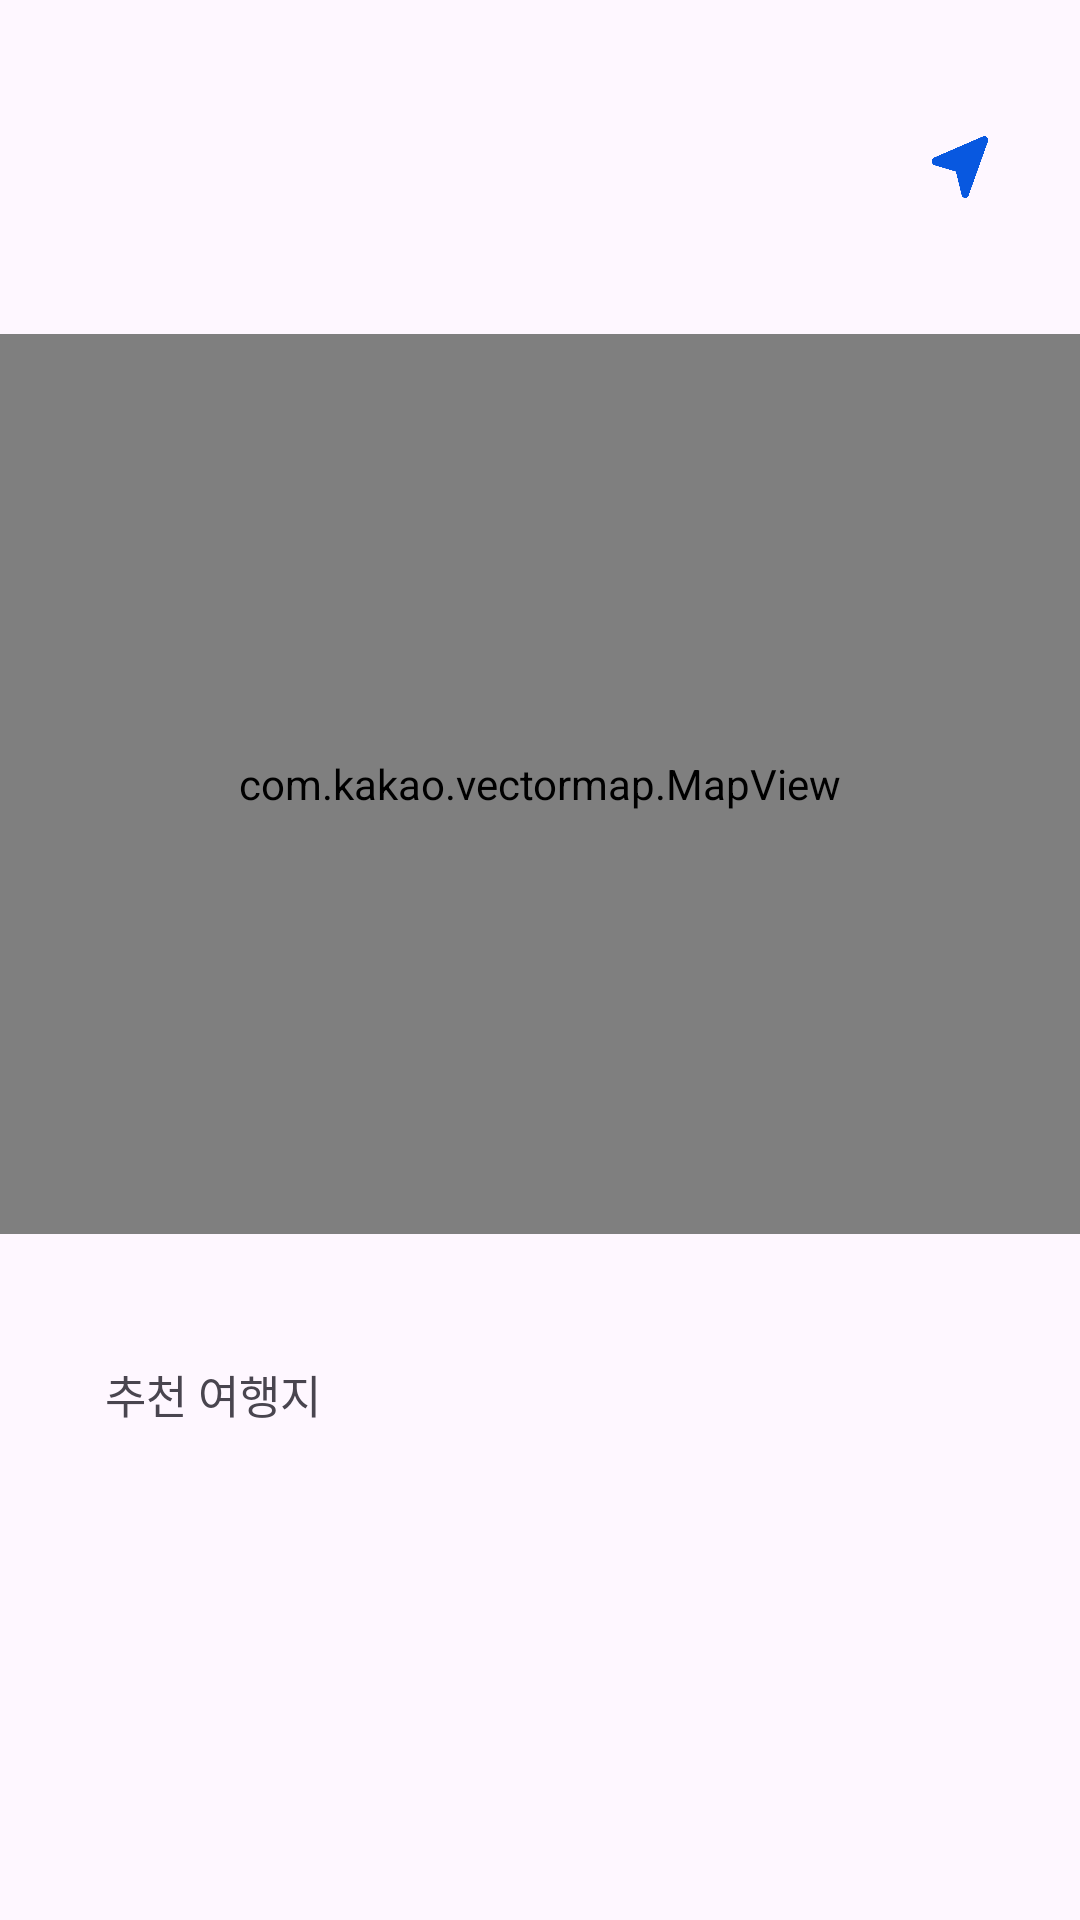

Named icons in this screenshot (1080 × 1920) and their centers, (x=x, y=y):
navigation: (x=960, y=167)
